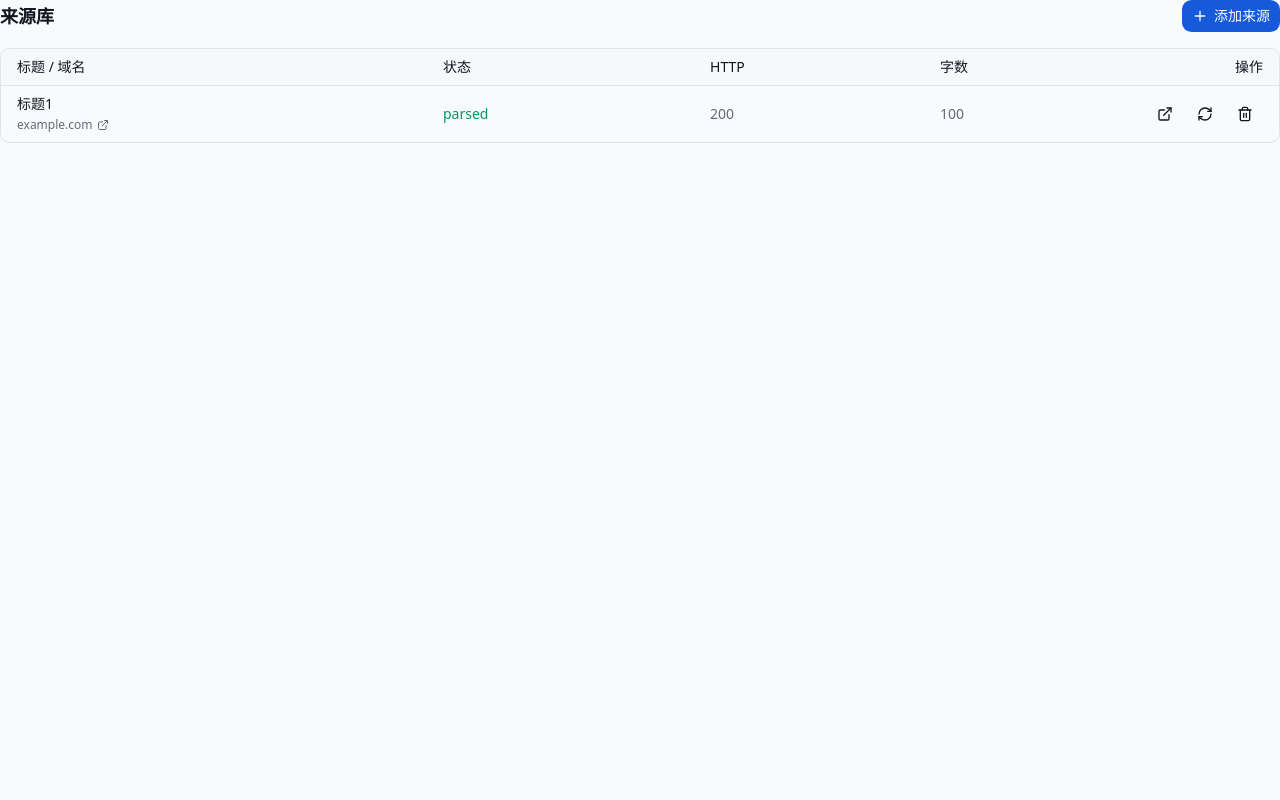
it: SourcesClient › 点击详情：GET 详情 → 显示 normalizedContent
Expected: the text "标题1" is shown, [17,94,53,113]
Click the button with test id "detail-1". click: click(1165, 114)
box: [1147,96,1183,132]
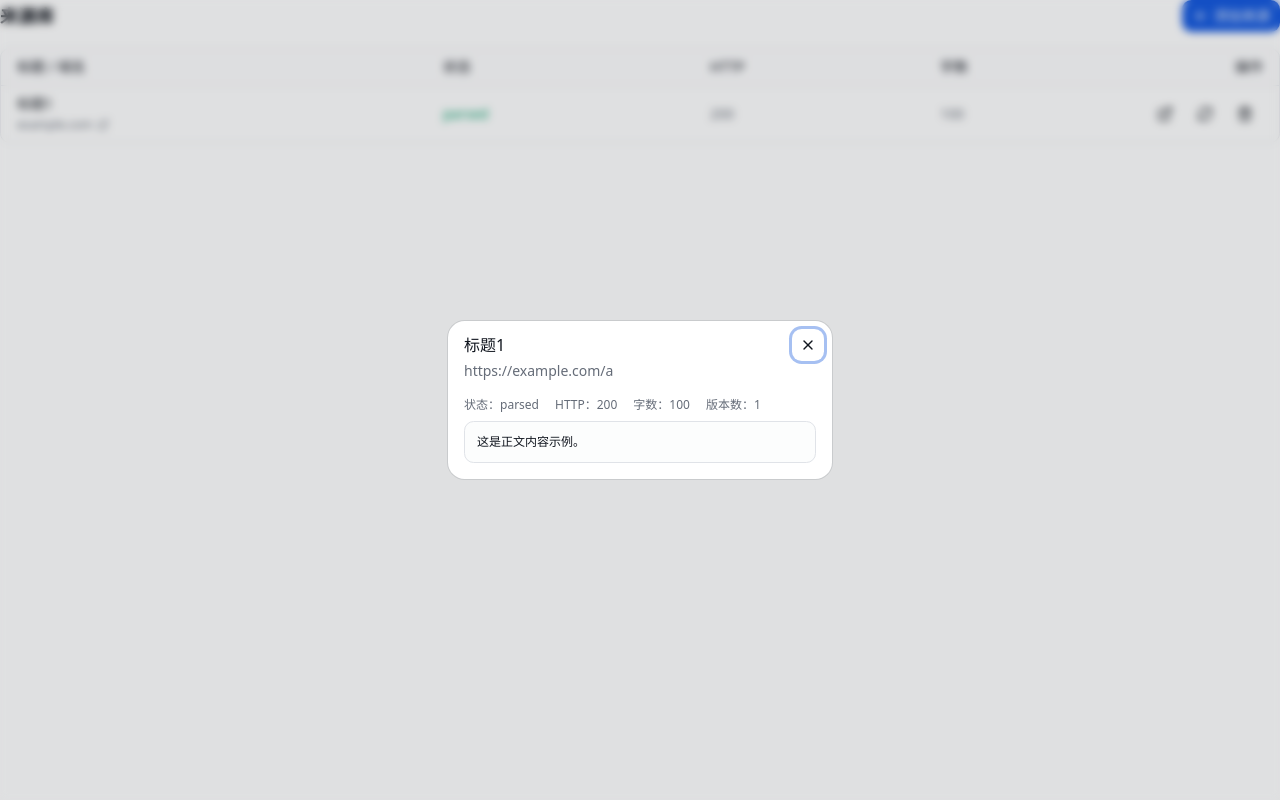
Now the text with test id "detail-content" shows "这是正文内容", box [477,433,585,450]
